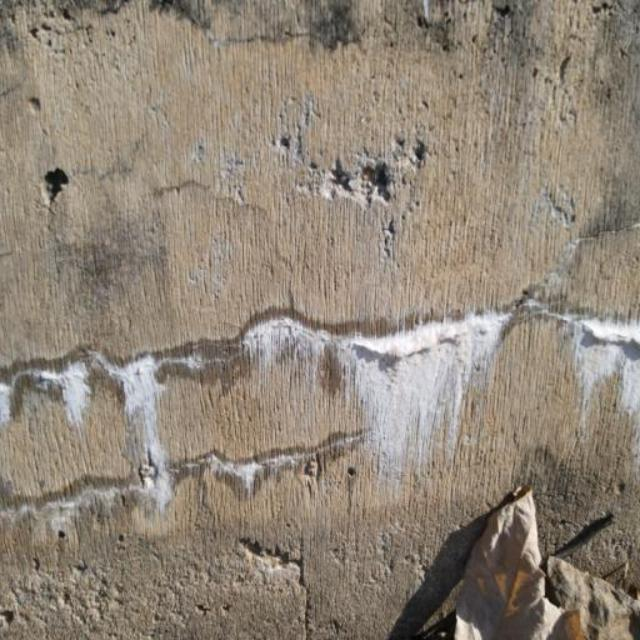D01: (246, 314, 513, 456), (26, 362, 88, 424)
